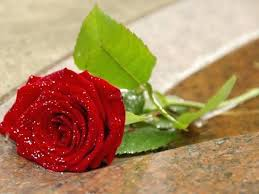flower: (4, 67, 145, 183)
